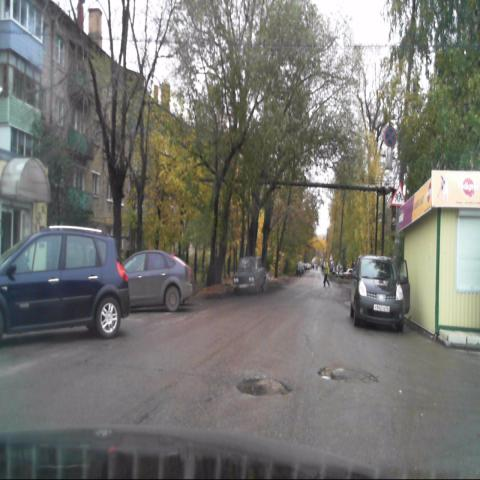1_23: (390, 181, 406, 207)
3_27: (384, 128, 398, 149)
